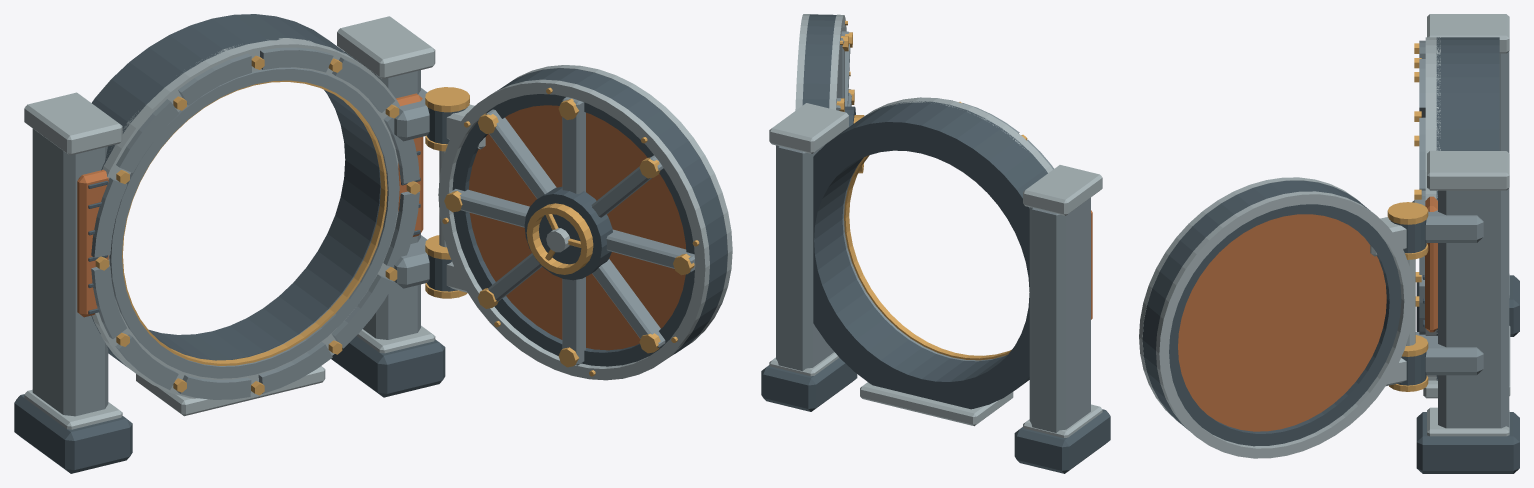
Rendered from wsc-module-021-open-circular-vault-door.glb.
3 views of the same model, side by side, from view 1: azimuth 30°, elevation 25°; view 2: azimuth 150°, elevation 25°; view 3: azimuth 270°, elevation 25° (orthographic). The views are drawn at different scales.
Visible parts, largest first — view 1: wsc-module-021-open-circular-vault-door; view 2: wsc-module-021-open-circular-vault-door; view 3: wsc-module-021-open-circular-vault-door.
Boxes of the visible parts, x1,y1,x2,y2 form: wsc-module-021-open-circular-vault-door: (14, 14, 732, 473); wsc-module-021-open-circular-vault-door: (761, 14, 1110, 473); wsc-module-021-open-circular-vault-door: (1139, 14, 1519, 473).
Size of the model in its own units: 6 by 4.17 by 4.23.
